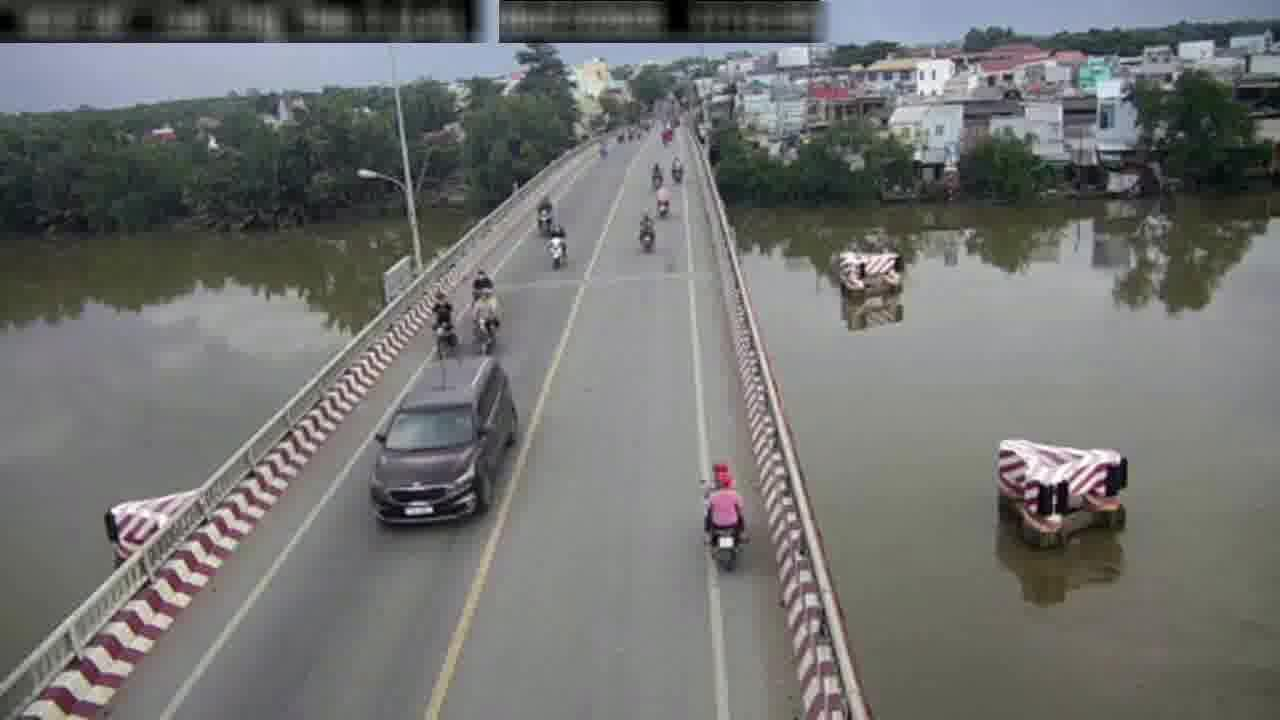car: (361, 355, 523, 534)
motorbike: (696, 451, 747, 572), (470, 289, 501, 356), (428, 290, 453, 357), (546, 222, 565, 275), (533, 190, 555, 234), (637, 206, 653, 254), (655, 179, 670, 219)
